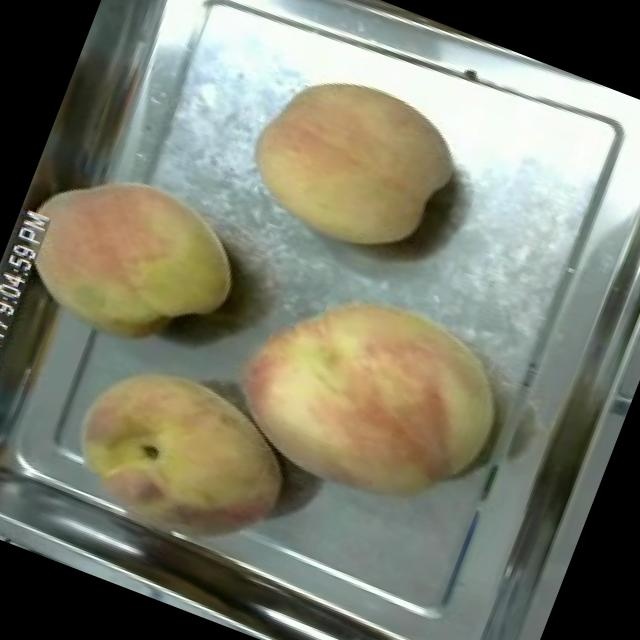Fruit: (202, 248, 530, 540), (39, 333, 318, 582), (0, 137, 265, 382), (225, 44, 480, 282)
